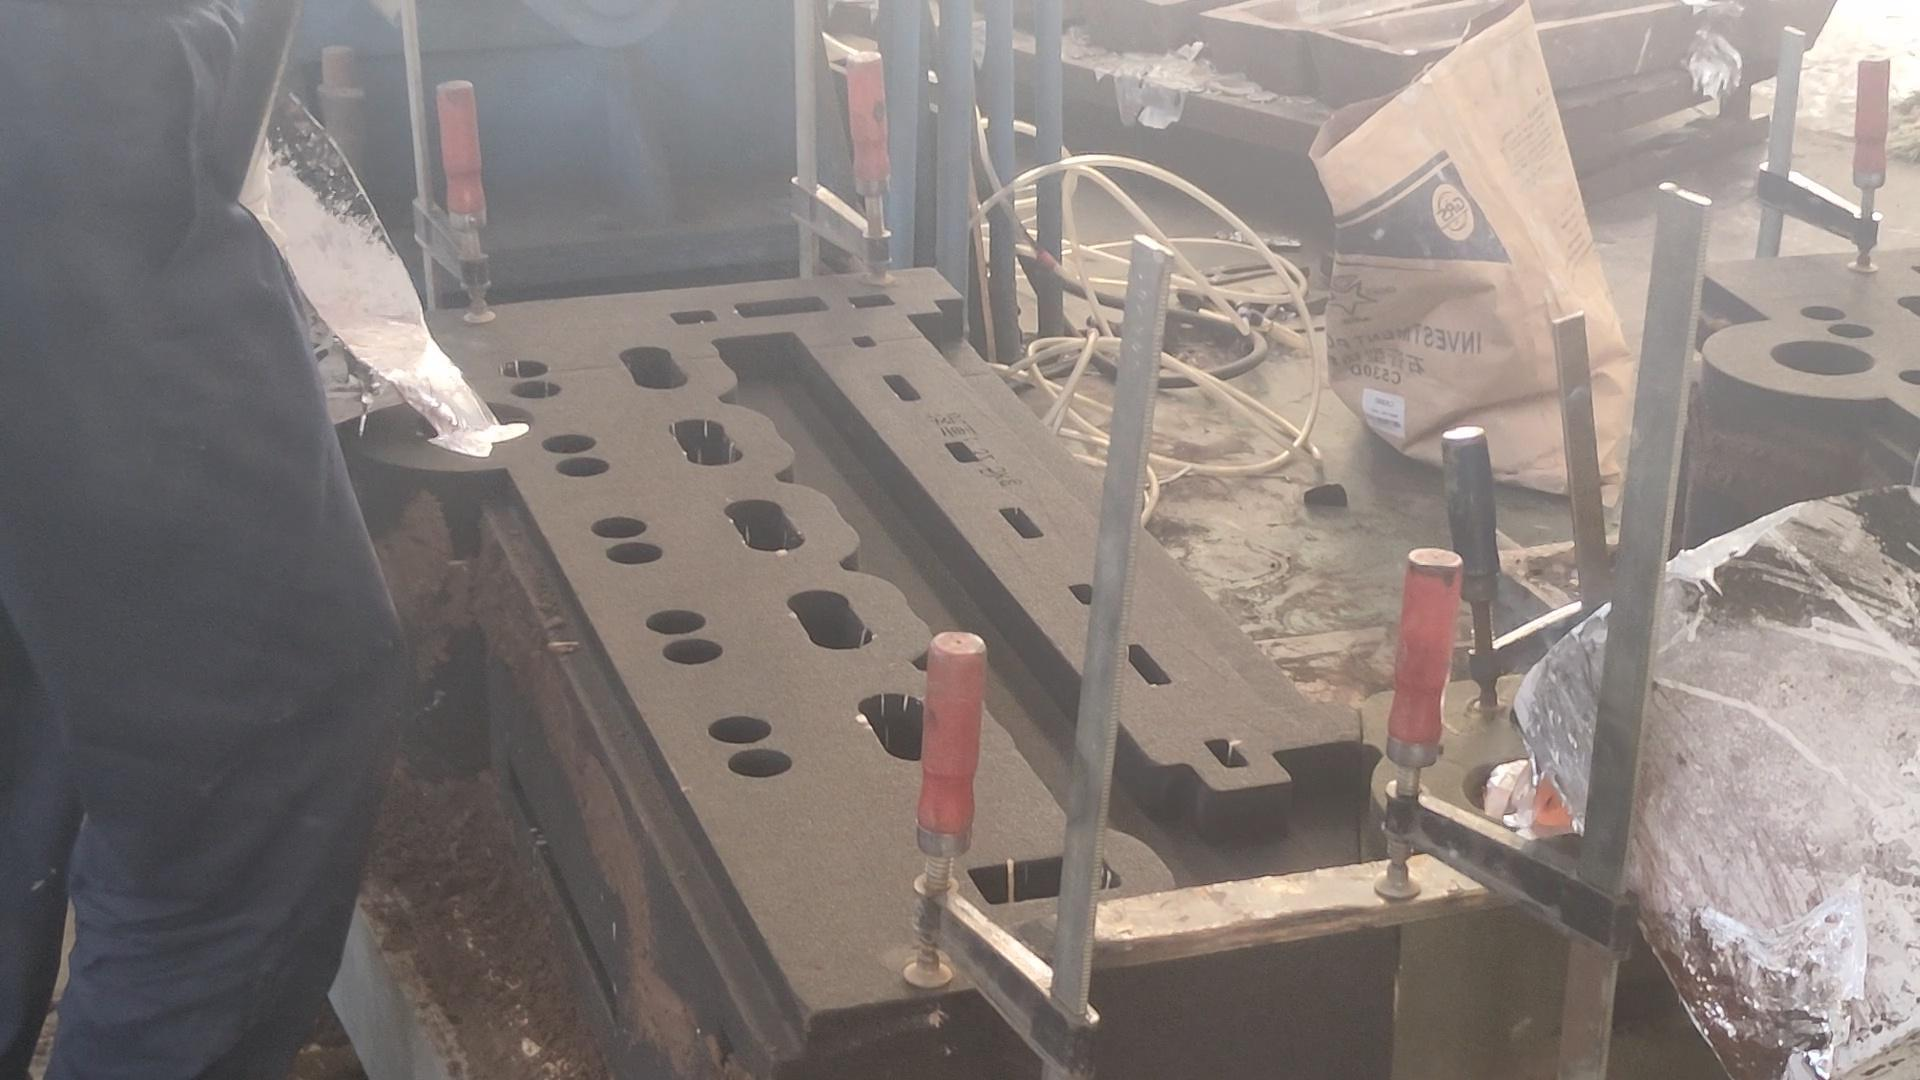pouring hole: (415, 400, 535, 446), (1770, 338, 1876, 376)
